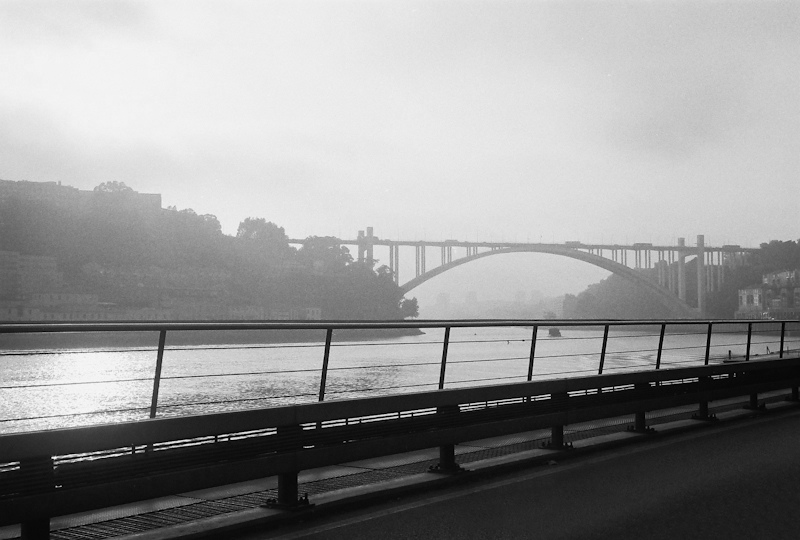arrabida: (312, 226, 749, 325)
